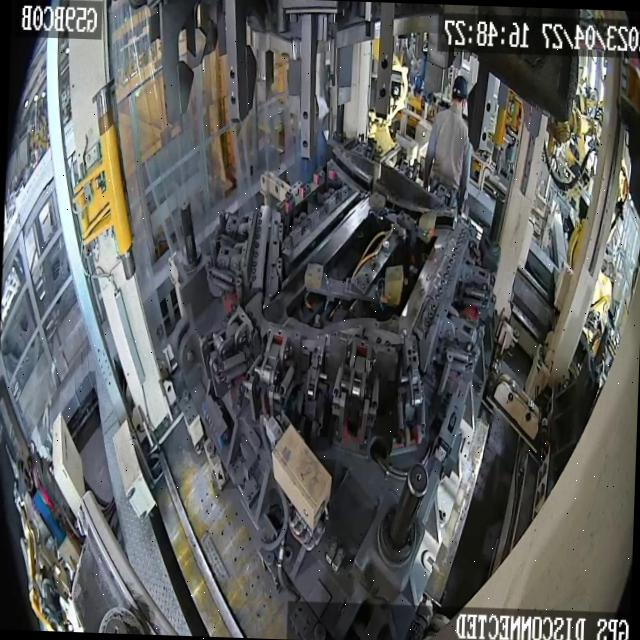Person: (420, 74, 474, 216)
